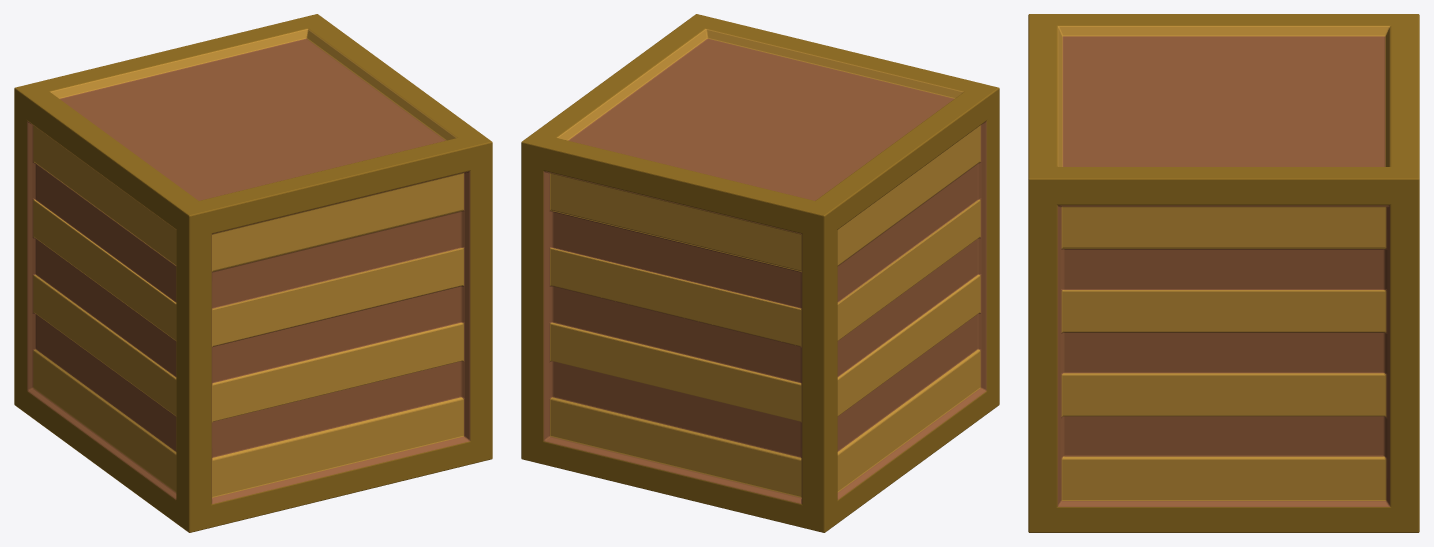
3 views of the same model, side by side, from view 1: azimuth 30°, elevation 25°; view 2: azimuth 150°, elevation 25°; view 3: azimuth 270°, elevation 25° (orthographic). The views are drawn at different scales.
Parts seen in each view (by area): view 1: Cube; view 2: Cube; view 3: Cube.
Part boxes in pixels (x1=…): Cube: x1=14, y1=14, x2=492, y2=532; Cube: x1=521, y1=14, x2=999, y2=532; Cube: x1=1028, y1=14, x2=1419, y2=532.
Size of the model in its own units: 400 by 400 by 400.
